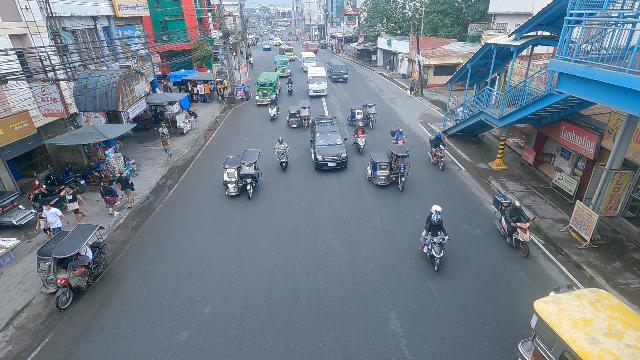car: (309, 115, 349, 172), (273, 37, 283, 47), (262, 41, 271, 51)
jeepney: (254, 71, 281, 105), (273, 55, 292, 77), (278, 44, 296, 62)
motorcycle: (492, 194, 535, 258), (417, 204, 451, 272), (428, 134, 448, 173), (274, 137, 291, 171), (352, 121, 369, 154), (390, 128, 406, 144), (267, 102, 280, 121), (286, 77, 294, 96)
van: (305, 66, 329, 98), (326, 58, 349, 83), (299, 52, 318, 71), (304, 41, 318, 54)
